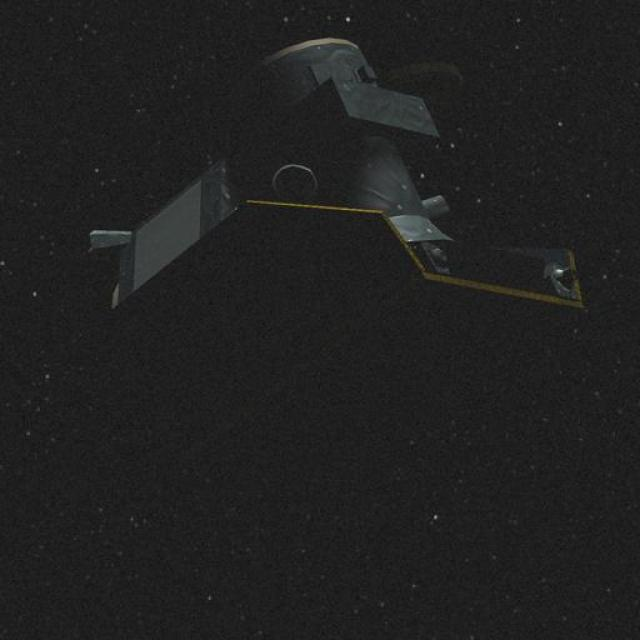cheops: (64, 40, 607, 367)
